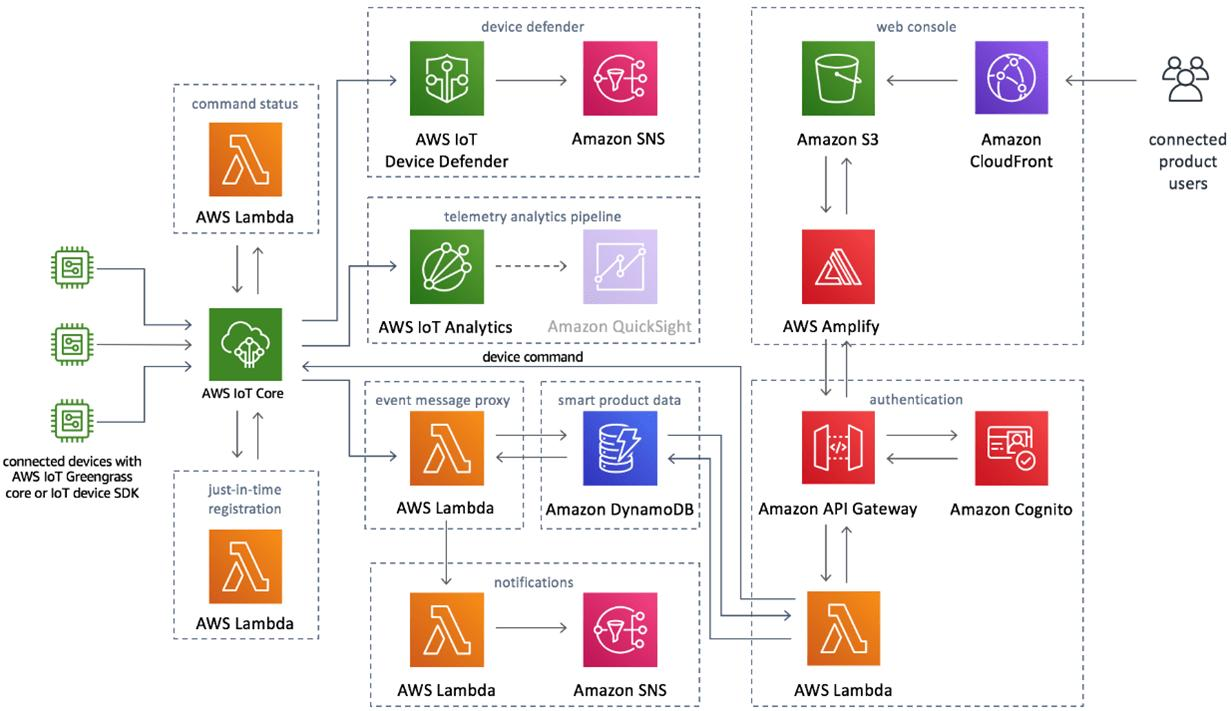AI Service: (414, 40, 478, 112), (418, 233, 480, 302), (216, 311, 277, 375)
API Gateway: (806, 416, 866, 478)
Auth: (980, 419, 1042, 482)
Backend: (211, 122, 283, 196), (414, 413, 484, 485), (210, 532, 279, 605), (414, 597, 480, 666), (808, 596, 876, 661)
Database: (589, 419, 643, 483)
Frontend: (979, 44, 1043, 110), (590, 235, 653, 298), (810, 238, 866, 301)
Messaging: (584, 42, 659, 111), (584, 601, 652, 666)
Storage: (807, 44, 864, 109)
